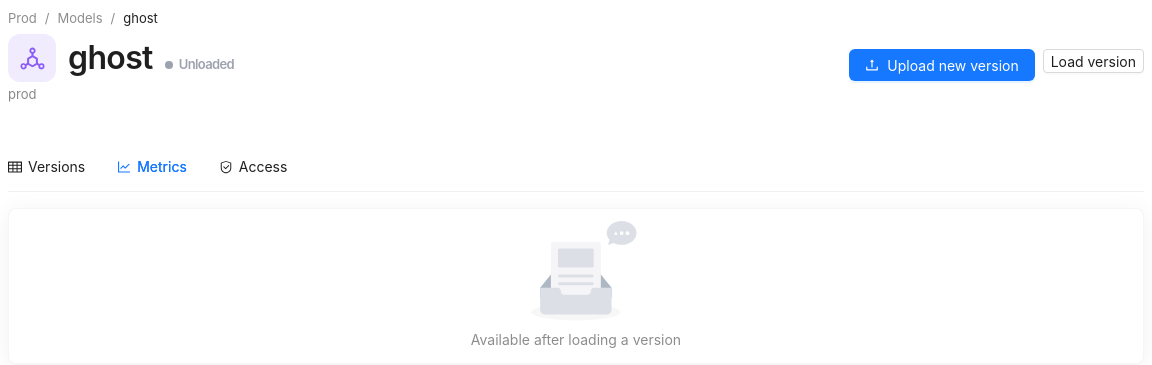
Scenario: ModelDetailPage unloaded model › should_show_unloaded_state_with_per_version_load_actions_instead_of_a_dead_page
The width and height of the screenshot is (1152, 365).
Check: the text "Unloaded" is shown, box [179,57,234,73]
Check: the text "Available after loading a version" is shown, box [471,331,681,348]
Per-version load action lives on the version card (panes render lazily).
What coordinates should you click on to do the following:
click the tab "Versions"
I would click on:
 (47, 168)
Its box is [8,156,85,180].
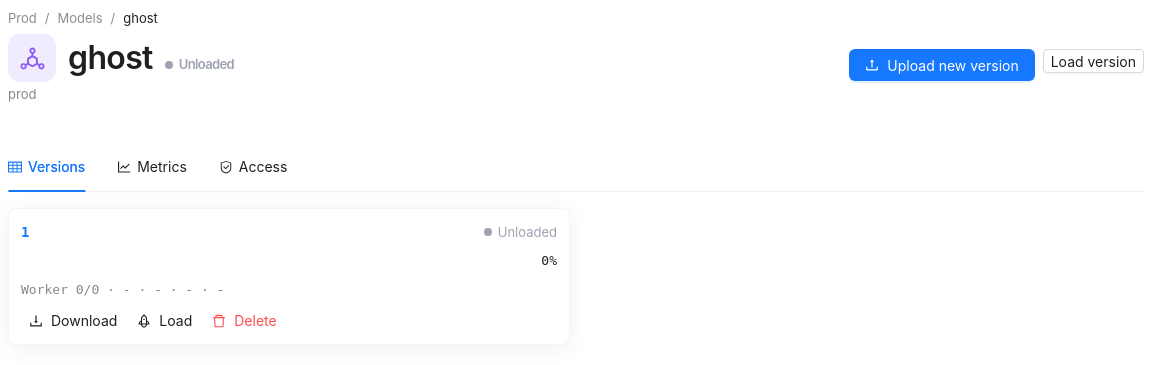
Check: the button "Load" is shown, box [129,308,200,332]
